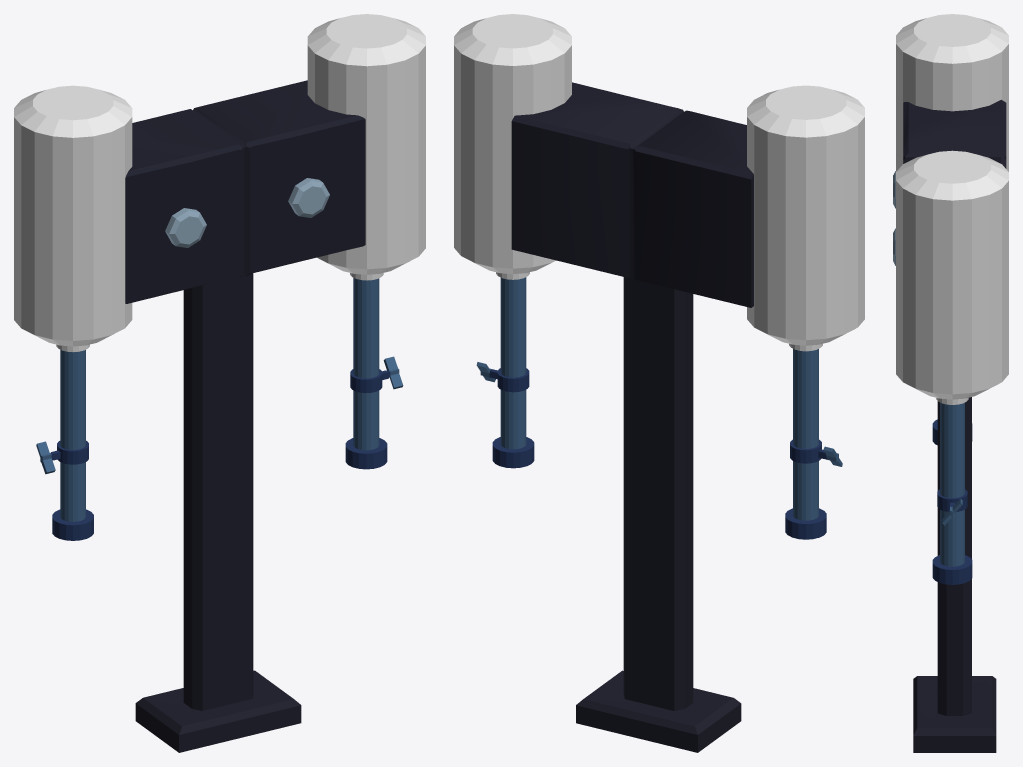
File: Puzle Agua Unity.fbx
3 views of the same model, side by side, from view 1: azimuth 30°, elevation 25°; view 2: azimuth 150°, elevation 25°; view 3: azimuth 270°, elevation 25° (orthographic). The views are drawn at different scales.
Visible parts, largest first — view 1: Recipiente, Botones, Estante, Mangueras; view 2: Recipiente, Botones, Estante, Mangueras; view 3: Recipiente, Estante, Botones, Mangueras.
Boxes of the visible parts, <box> form: Recipiente: <box>14,14,425,352</box>; Botones: <box>125,80,365,303</box>; Estante: <box>135,273,301,752</box>; Mangueras: <box>36,278,403,540</box>; Recipiente: <box>454,14,864,351</box>; Botones: <box>511,82,753,307</box>; Estante: <box>576,277,741,752</box>; Mangueras: <box>476,277,842,539</box>; Recipiente: <box>896,14,1008,404</box>; Estante: <box>913,397,996,752</box>; Botones: <box>893,99,1006,265</box>; Mangueras: <box>932,402,972,584</box>.
Bounding box in the file's own units: 951 × 1499 × 251.
